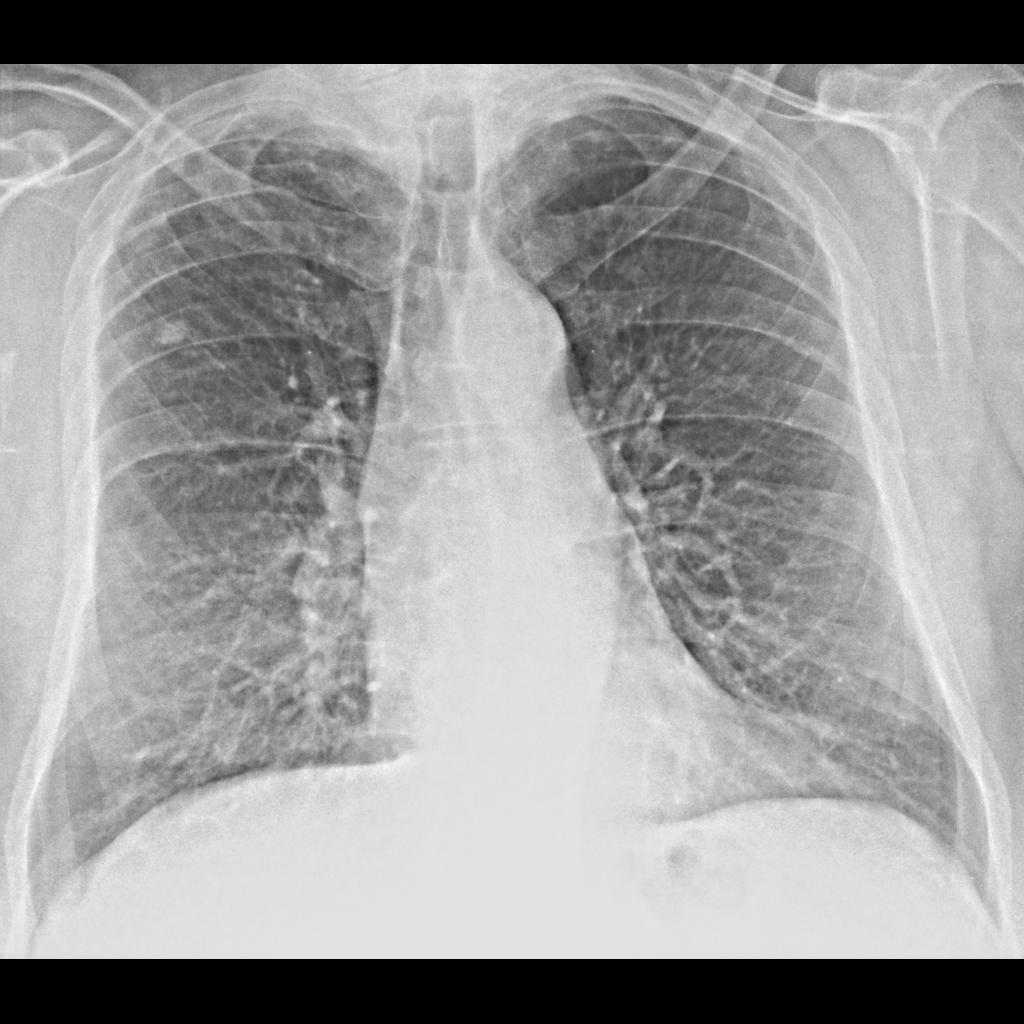Nodule: (153, 313, 198, 357)
